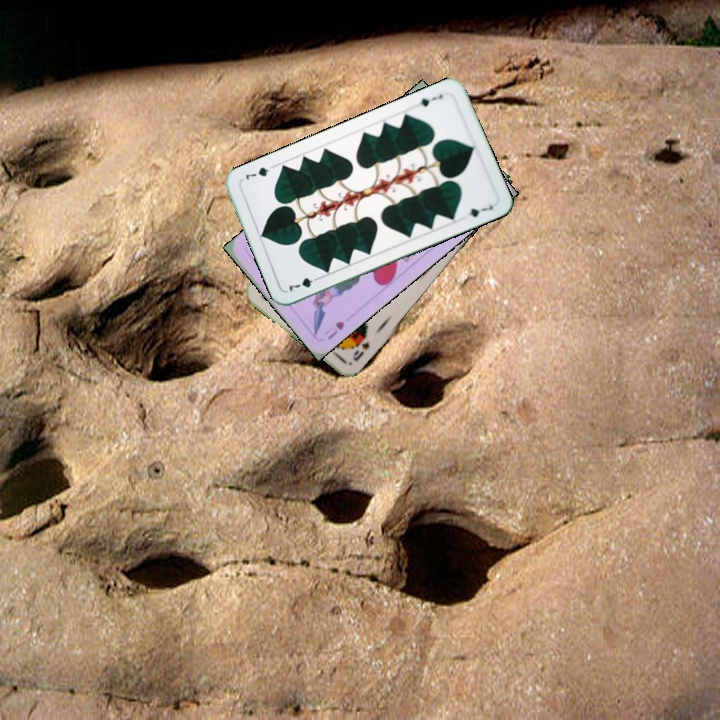G7: (285, 272, 323, 294), (416, 90, 445, 109)
HU: (320, 317, 347, 342)
SO: (348, 337, 372, 364)
